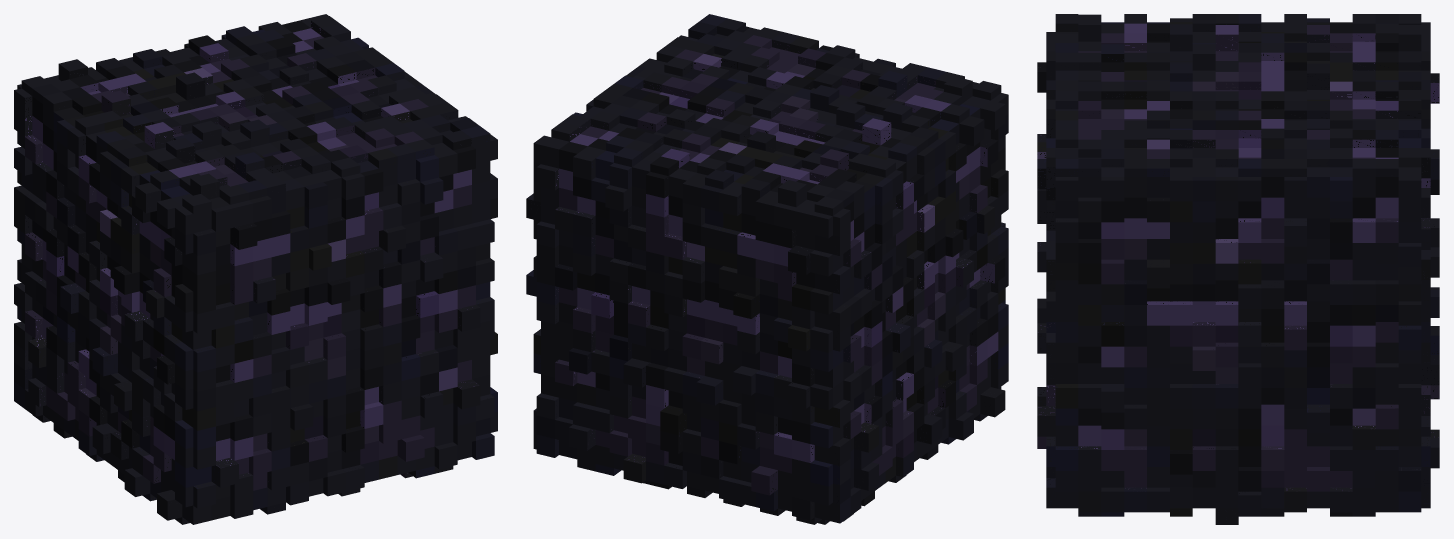
File: obby.obj
3 views of the same model, side by side, from view 1: azimuth 30°, elevation 25°; view 2: azimuth 150°, elevation 25°; view 3: azimuth 270°, elevation 25° (orthographic). The views are drawn at different scales.
Parts seen in each view (by area): view 1: Cube; view 2: Cube; view 3: Cube.
Part boxes in pixels (x1,y1,x2,y2): Cube: (14,14,497,524); Cube: (526,14,1008,524); Cube: (1037,14,1439,524).
Bounding box in the file's own units: 2.2 × 2.2 × 2.2.
1 material, 1 textured.
